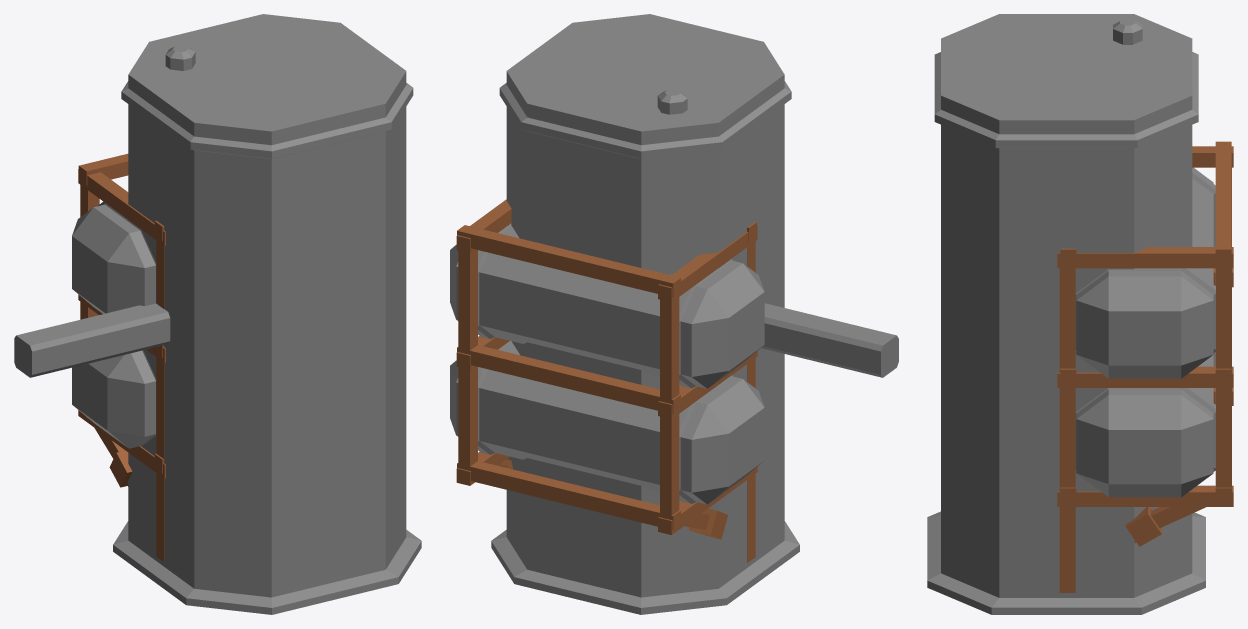
File: decorations.fbx
3 renders of one model, left to right at view 1: azimuth 30°, elevation 25°; view 2: azimuth 150°, elevation 25°; view 3: azimuth 270°, elevation 25°, orthographic. The views are drawn at different scales.
Visible parts, largest first — view 1: container, water supply, pipe1; view 2: container, water supply, pipe1; view 3: container, water supply.
Part boxes in pixels (x1=…): container: x1=113, y1=14, x2=421, y2=614; water supply: x1=72, y1=153, x2=165, y2=561; pipe1: x1=14, y1=303, x2=170, y2=377; container: x1=491, y1=14, x2=799, y2=614; water supply: x1=450, y1=199, x2=764, y2=562; pipe1: x1=761, y1=303, x2=898, y2=377; container: x1=927, y1=14, x2=1205, y2=614; water supply: x1=1057, y1=141, x2=1233, y2=592.
Size of the model in its own units: 968 by 1195 by 653.
